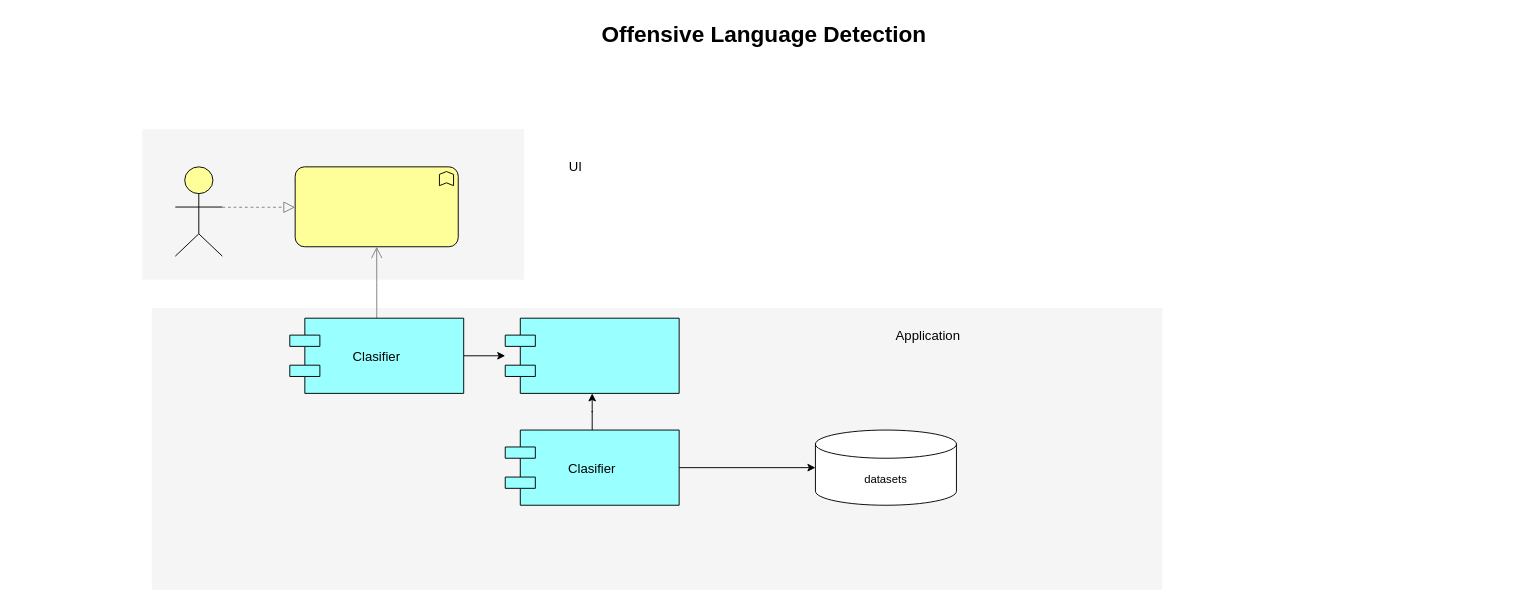
The diagram is 1527 pixels wide and 605 high, and some of its shapes have lost their labels. The centre of each missing label's shape, as x and y in pixels:
"Check if an input is offensive or not?" goes at point (376, 206).
"TraningSetResults" goes at point (591, 355).
